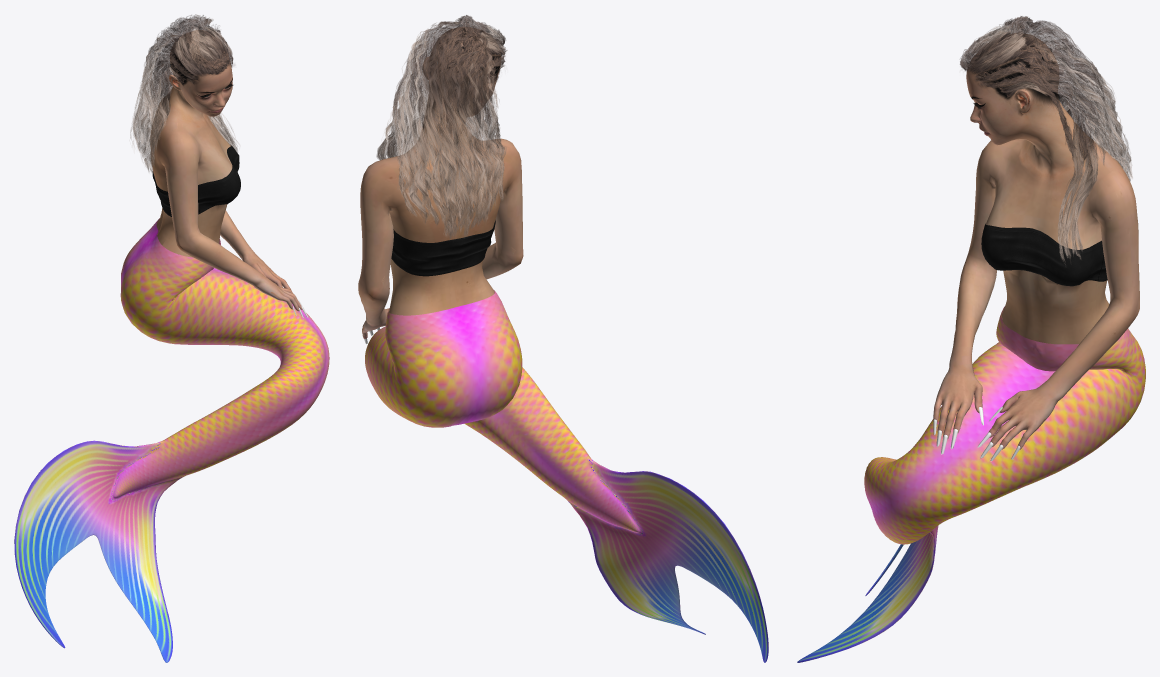
File: mermaid.glb
The picture shows the model from 3 angles, left to right: view 1: azimuth 30°, elevation 25°; view 2: azimuth 150°, elevation 25°; view 3: azimuth 270°, elevation 25°; orthographic projection. The views are drawn at different scales.
Parts seen in each view (by area): view 1: Tail, TailFin, Arms, HairOutta, HairInner, Body, Face, BoobTube; view 2: Tail, HairOutta, TailFin, HairInner, Body, Arms, Face, BoobTube; view 3: Tail, Arms, Body, HairOutta, HairInner, Face, BoobTube, TailFin, HairScalp, Nails.
Part boxes in pixels (x1=…): Tail: x1=112, y1=218, x2=329, y2=498; TailFin: x1=14, y1=439, x2=185, y2=662; Arms: x1=158, y1=117, x2=302, y2=311; HairOutta: x1=130, y1=15, x2=237, y2=172; HairInner: x1=131, y1=14, x2=239, y2=172; Body: x1=150, y1=108, x2=232, y2=257; Face: x1=157, y1=30, x2=232, y2=129; BoobTube: x1=152, y1=145, x2=240, y2=216; Tail: x1=365, y1=290, x2=640, y2=533; HairOutta: x1=377, y1=15, x2=507, y2=236; TailFin: x1=565, y1=455, x2=768, y2=662; HairInner: x1=376, y1=15, x2=505, y2=238; Body: x1=385, y1=139, x2=505, y2=315; Arms: x1=358, y1=138, x2=523, y2=338; Face: x1=404, y1=27, x2=501, y2=171; BoobTube: x1=391, y1=220, x2=495, y2=276; Tail: x1=864, y1=306, x2=1145, y2=544; Arms: x1=933, y1=140, x2=1139, y2=449; Body: x1=985, y1=139, x2=1122, y2=344; HairOutta: x1=960, y1=16, x2=1132, y2=260; HairInner: x1=960, y1=16, x2=1132, y2=262; Face: x1=966, y1=33, x2=1107, y2=184; BoobTube: x1=981, y1=223, x2=1107, y2=286; TailFin: x1=797, y1=525, x2=938, y2=662; HairScalp: x1=970, y1=51, x2=1060, y2=104; Nails: x1=933, y1=406, x2=1020, y2=461.
Size of the model in its own units: 0.9573 by 1.62 by 0.7122.
Materials: 10 (10 with a texture image).
